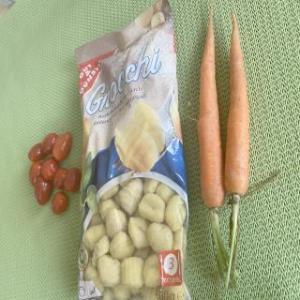carrot: (196, 0, 228, 232), (220, 2, 256, 208)
tomato: (50, 130, 74, 163), (34, 176, 54, 210), (38, 130, 61, 158), (25, 158, 45, 190), (25, 142, 51, 164), (62, 166, 82, 194), (49, 189, 68, 217)
